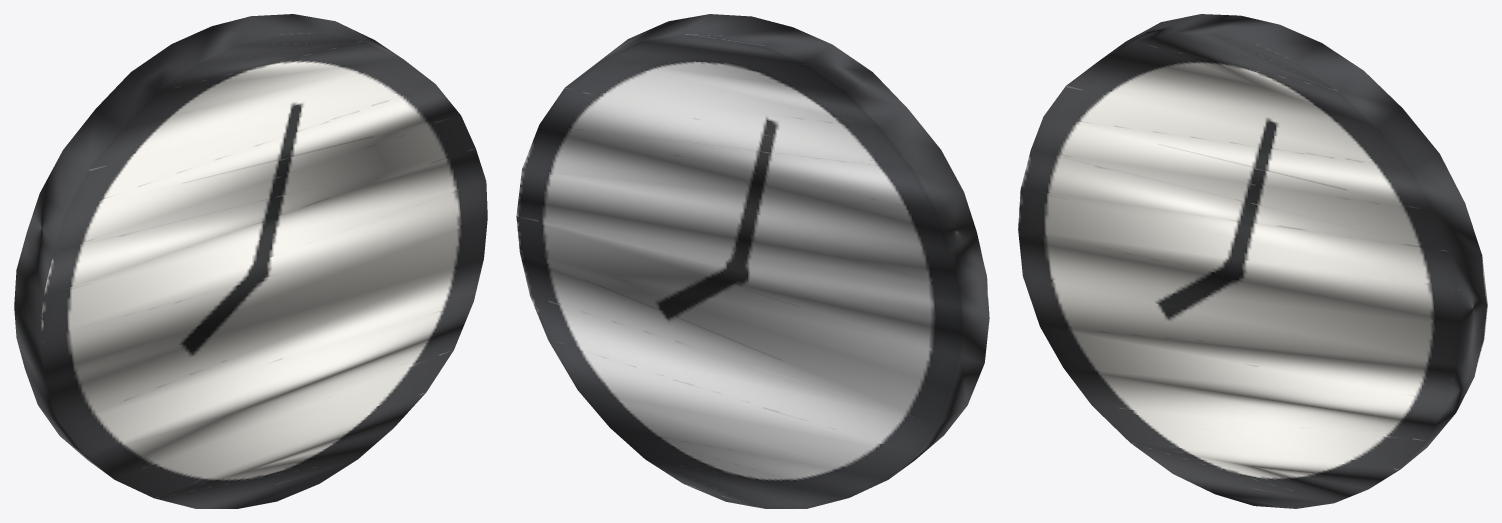
Rendered from wall_clock.fbx.
3 views of the same model, side by side, from view 1: azimuth 30°, elevation 25°; view 2: azimuth 150°, elevation 25°; view 3: azimuth 330°, elevation 25° (orthographic).
Visible parts, largest first — view 1: Mesh_0; view 2: Mesh_0; view 3: Mesh_0.
Part boxes in pixels (left/top/right/bottom): Mesh_0: left=14, top=14, right=487, bottom=508; Mesh_0: left=516, top=14, right=989, bottom=508; Mesh_0: left=1018, top=14, right=1487, bottom=508.
Bounding box in the file's own units: 95.17 × 95.02 × 10.06.
1 material, 1 textured.
